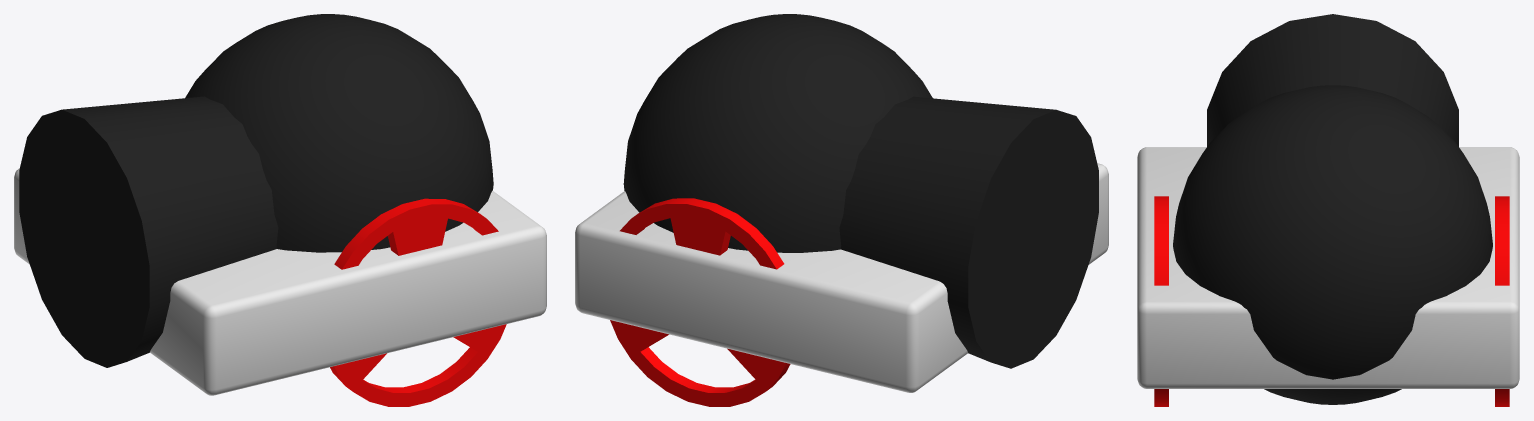
File: Shooter.fbx
3 renders of one model, left to right at view 1: azimuth 30°, elevation 25°; view 2: azimuth 150°, elevation 25°; view 3: azimuth 270°, elevation 25°, orthographic. The views are drawn at different scales.
Parts seen in each view (by area): view 1: Shooter, Box; view 2: Shooter, Box; view 3: Shooter, Box.
Part boxes in pixels (bbox=[...]): Shooter: bbox=[19, 14, 506, 406]; Box: bbox=[14, 168, 546, 395]; Shooter: bbox=[610, 14, 1098, 406]; Box: bbox=[575, 163, 1108, 392]; Shooter: bbox=[1154, 14, 1509, 406]; Box: bbox=[1137, 147, 1519, 388].
Bounding box in the file's own units: 1.13 × 0.8579 × 1.
